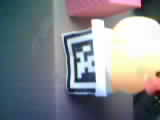duck: (97, 11, 156, 95)
